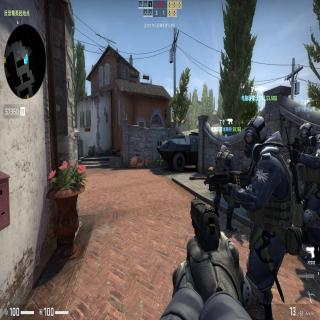CT-Body: (239, 115, 297, 272), (214, 138, 236, 170)
CT-Head: (243, 114, 268, 156), (298, 122, 315, 148), (222, 140, 230, 150)
